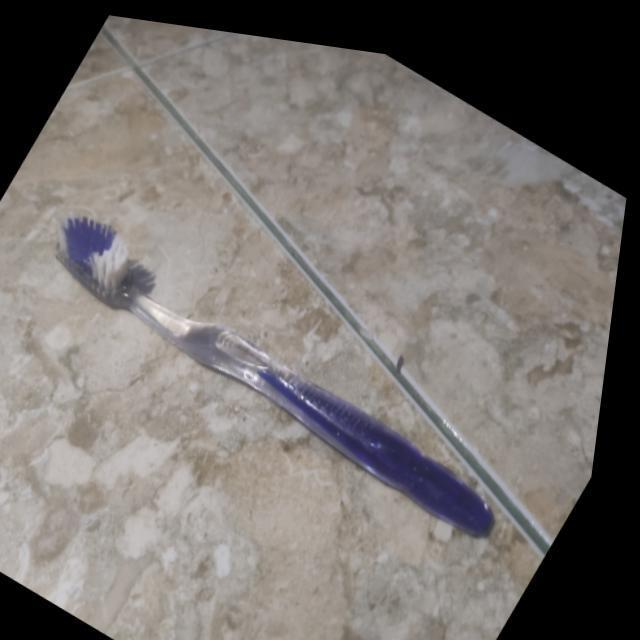toothbrush: (52, 191, 511, 519)
